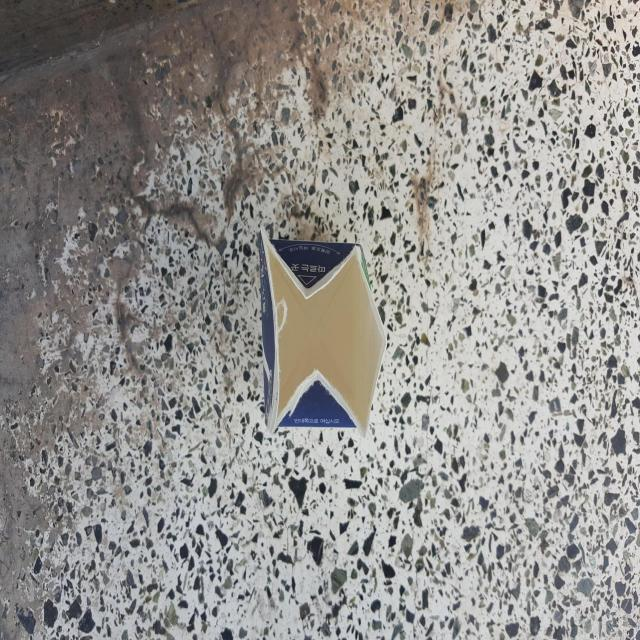paperpack: (257, 225, 386, 435)
